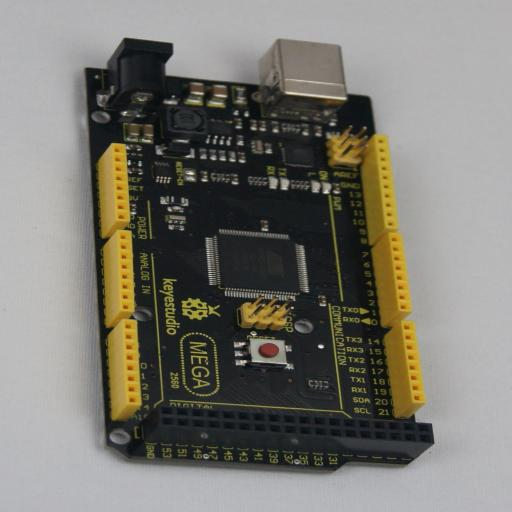Arduino Mega 2560 -Black and Yellow-: (84, 38, 434, 474)
